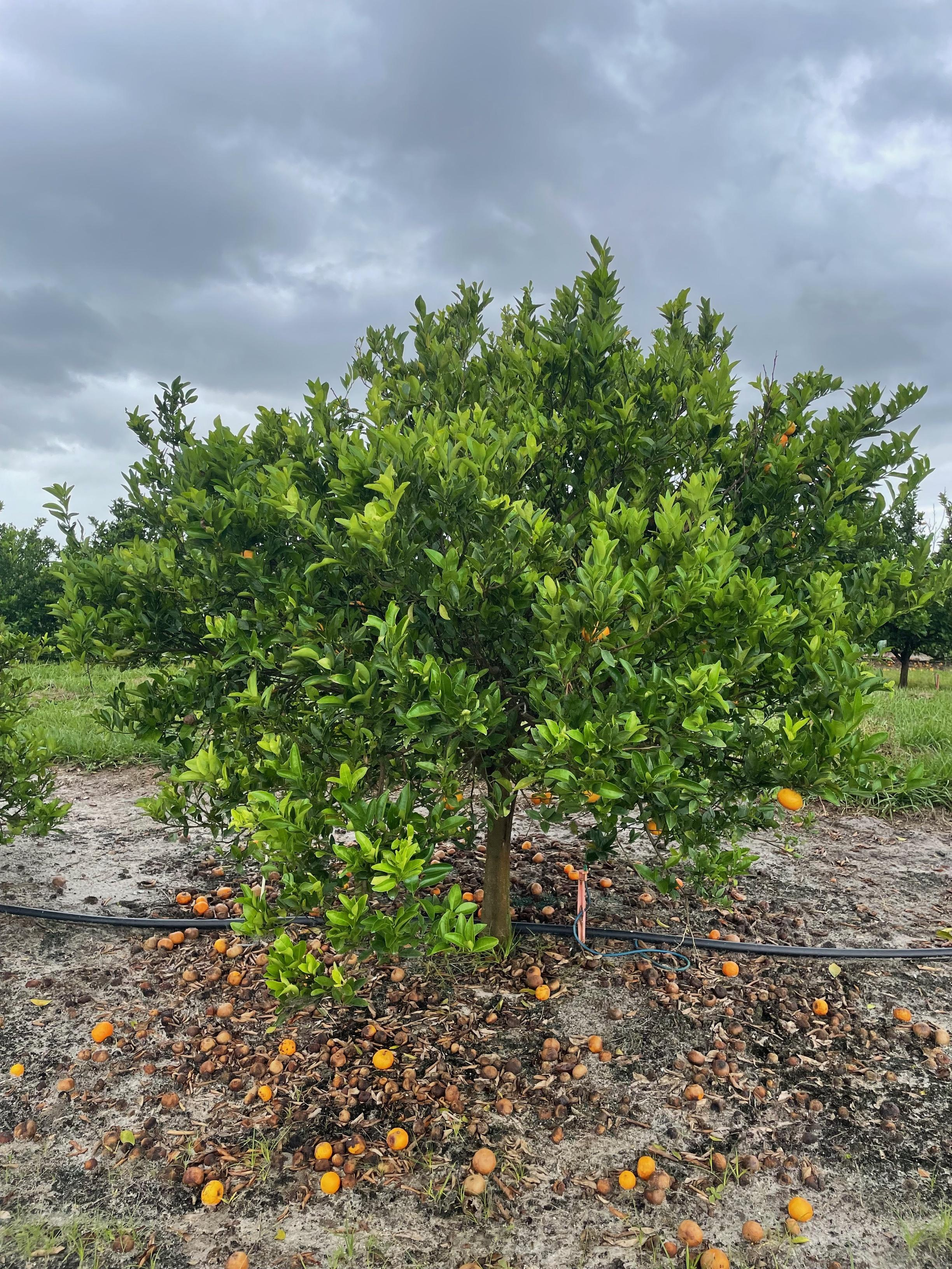fruit_on_ground: (579, 617, 612, 647), (777, 786, 805, 812), (439, 788, 464, 810), (644, 816, 665, 837), (237, 545, 258, 564), (582, 787, 601, 804), (773, 432, 790, 447), (782, 420, 798, 434), (761, 460, 775, 475)
fruit_on_tree: (470, 1147, 499, 1175), (698, 1245, 731, 1269), (461, 1171, 488, 1197), (676, 1219, 703, 1245), (384, 1126, 411, 1152), (200, 1178, 225, 1206), (788, 1196, 814, 1222), (740, 1219, 766, 1243), (13, 1117, 38, 1141), (180, 1165, 205, 1188), (223, 1249, 250, 1269), (522, 964, 544, 988), (319, 1170, 341, 1194), (372, 1047, 394, 1070), (91, 1020, 114, 1042), (635, 1154, 657, 1177), (344, 1133, 366, 1155), (313, 1140, 334, 1162), (644, 1185, 667, 1205), (784, 1215, 805, 1236), (739, 1153, 761, 1173), (617, 1170, 637, 1192), (359, 1022, 382, 1041), (652, 1171, 675, 1190), (682, 1082, 705, 1101), (911, 1020, 934, 1038), (810, 997, 830, 1017), (709, 1151, 728, 1172), (159, 1090, 180, 1109), (278, 1044, 298, 1063), (661, 1237, 680, 1257), (277, 1037, 297, 1056), (388, 964, 408, 983), (933, 1026, 951, 1046), (892, 1005, 913, 1022), (494, 1097, 513, 1115), (721, 960, 740, 978), (192, 896, 211, 914), (100, 1129, 120, 1146), (503, 1056, 523, 1073), (478, 1063, 499, 1079), (537, 788, 555, 806), (443, 1083, 461, 1101), (571, 1061, 589, 1079), (587, 1033, 604, 1052), (534, 983, 551, 1002), (686, 1048, 706, 1064), (330, 1049, 348, 1066), (382, 1077, 400, 1094), (595, 1176, 612, 1194), (92, 1045, 110, 1062), (8, 1060, 26, 1077), (198, 1059, 217, 1075), (214, 1027, 233, 1043), (257, 1083, 273, 1102), (454, 1259, 484, 1269), (429, 1081, 446, 1098), (700, 991, 717, 1008), (393, 1029, 411, 1045), (232, 1040, 250, 1056), (543, 1036, 561, 1052), (215, 1001, 233, 1017), (634, 956, 653, 971), (215, 1035, 234, 1050), (212, 901, 231, 916), (637, 890, 656, 905), (181, 967, 200, 982), (402, 1066, 419, 1082), (606, 1004, 623, 1020), (254, 950, 271, 966), (50, 873, 67, 889), (500, 1071, 518, 1086), (306, 904, 324, 919), (141, 935, 159, 950), (215, 884, 233, 899), (342, 1158, 358, 1174), (199, 1034, 215, 1050), (212, 936, 228, 952), (226, 969, 242, 985), (205, 964, 222, 979), (539, 903, 556, 918), (565, 867, 582, 882), (713, 1061, 730, 1076), (225, 941, 242, 956), (156, 935, 173, 950), (201, 1152, 219, 1166), (551, 1127, 566, 1143), (546, 974, 562, 989), (229, 899, 245, 914), (266, 869, 282, 884), (268, 1058, 284, 1073), (784, 1053, 800, 1068), (599, 1049, 615, 1064), (191, 1138, 208, 1152), (305, 1039, 322, 1053), (663, 981, 680, 995), (175, 890, 192, 904), (527, 791, 542, 806), (242, 1089, 257, 1104), (331, 1152, 346, 1167), (460, 889, 475, 904), (529, 880, 544, 895), (171, 929, 186, 944), (227, 1077, 243, 1091), (474, 905, 488, 920), (671, 875, 685, 890), (250, 883, 264, 898), (142, 1061, 157, 1075), (186, 1022, 201, 1036), (82, 1156, 97, 1170), (183, 926, 198, 940), (599, 874, 614, 888), (729, 1023, 745, 1036), (712, 1037, 728, 1050), (473, 886, 486, 902), (427, 885, 444, 897), (724, 931, 741, 943), (215, 1048, 229, 1062), (485, 1010, 499, 1024), (562, 862, 576, 876), (285, 1058, 300, 1071), (713, 1049, 728, 1062), (707, 928, 722, 941), (0, 1129, 12, 1145), (506, 904, 519, 918), (766, 1051, 780, 1064), (753, 1084, 767, 1097), (665, 969, 679, 982), (205, 1003, 218, 1017), (531, 851, 545, 864), (83, 893, 98, 905), (25, 976, 40, 988), (732, 1040, 747, 1052), (195, 893, 208, 906), (138, 979, 152, 991), (212, 867, 226, 879), (520, 838, 532, 849)
